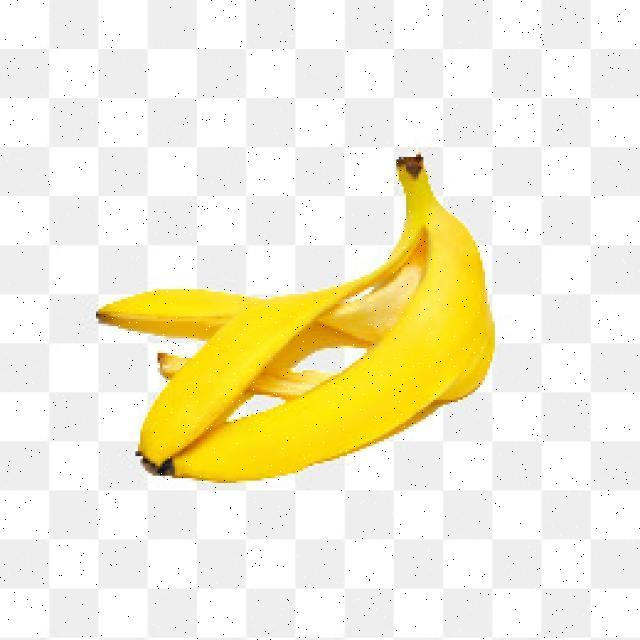banana-peel: (95, 151, 496, 483)
